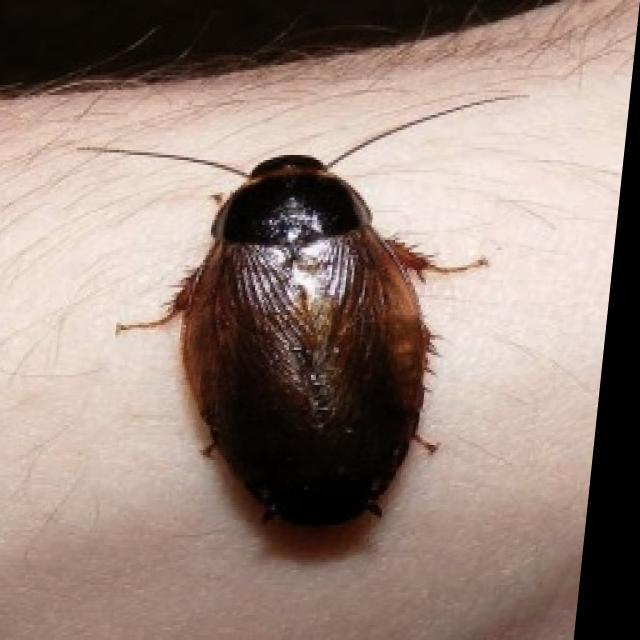cockroach: (168, 123, 428, 574)
